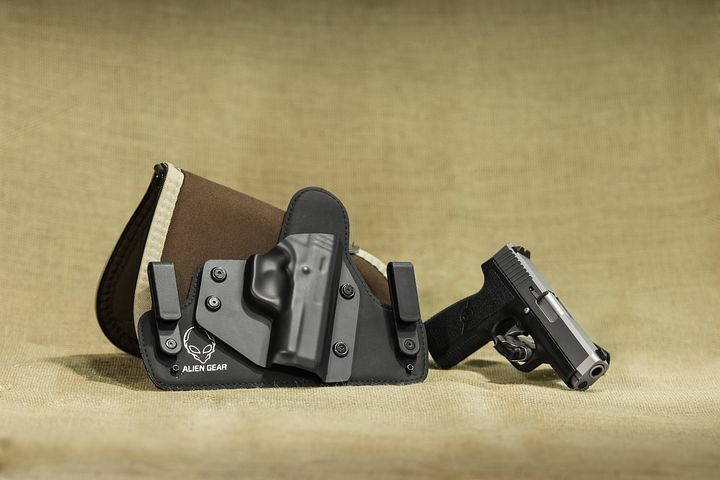gun: (419, 231, 638, 412)
